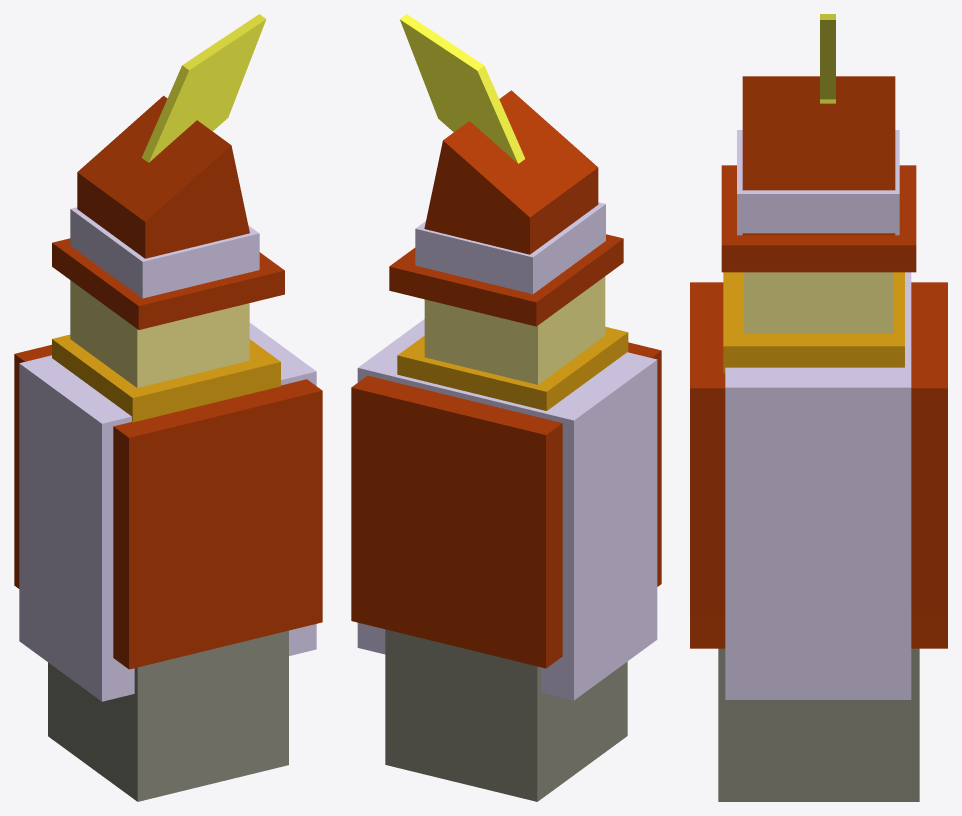
File: smallenvoy.fbx
The picture shows the model from 3 angles, left to right: view 1: azimuth 30°, elevation 25°; view 2: azimuth 150°, elevation 25°; view 3: azimuth 270°, elevation 25°; orthographic projection. The views are drawn at different scales.
Visible parts, largest first — view 1: polySurface166; view 2: polySurface166; view 3: polySurface166.
Part boxes in pixels (<box>): polySurface166: <box>14,14,322,801</box>; polySurface166: <box>351,14,661,801</box>; polySurface166: <box>690,14,947,801</box>.
Bounding box in the file's own units: 12.97 × 40.83 × 12.01.
1 material, 1 textured.
